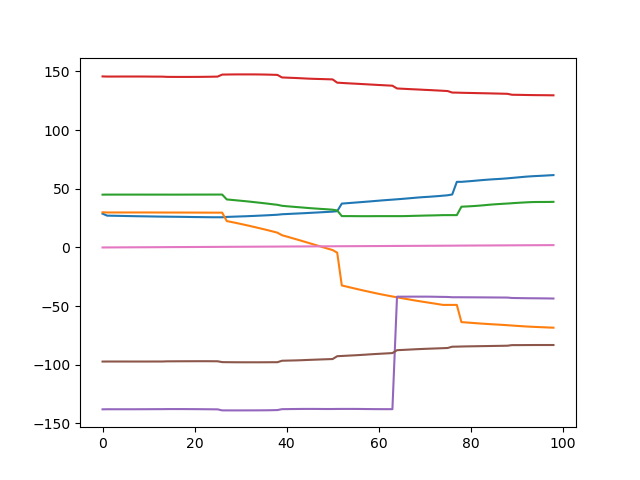Good_Bicep_Curl: (1, 1, 639, 480)
